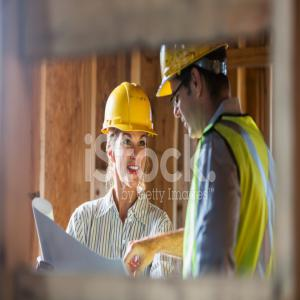yellow: (158, 40, 232, 139), (104, 82, 154, 191)
